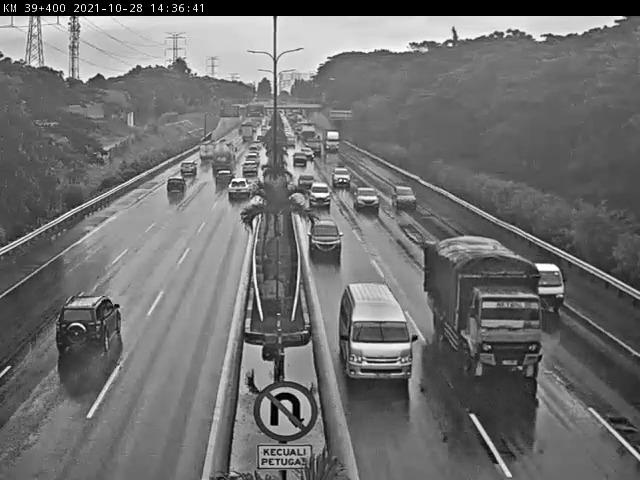big truck: (419, 230, 535, 373)
car: (47, 299, 115, 370), (525, 254, 552, 308), (307, 216, 343, 254), (355, 179, 379, 221), (156, 174, 186, 200), (308, 181, 334, 205), (338, 162, 358, 188), (392, 181, 408, 206), (232, 183, 249, 204), (179, 159, 190, 179)
small bus: (339, 275, 397, 363)
